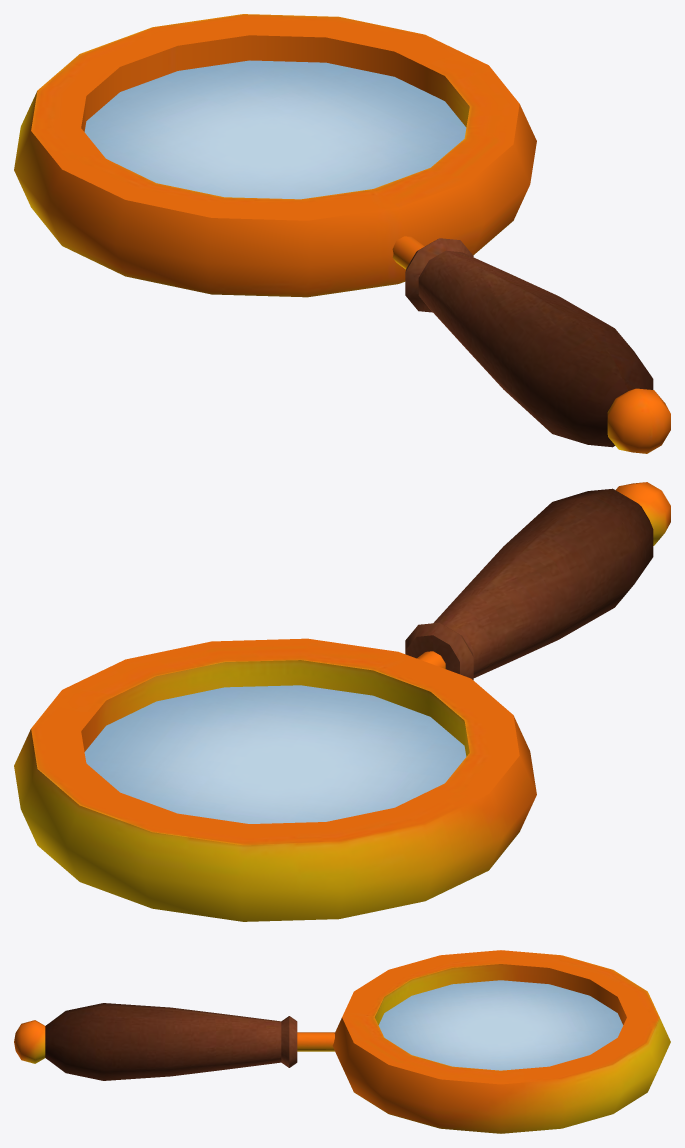
Rendered from magnifier.glb.
The picture shows the model from 3 angles, top to bottom: view 1: azimuth 30°, elevation 25°; view 2: azimuth 150°, elevation 25°; view 3: azimuth 270°, elevation 25°; orthographic projection. The views are drawn at different scales.
Bounding box in the file's own units: 0.5178 × 0.121 × 1.
1 material, 1 textured.
